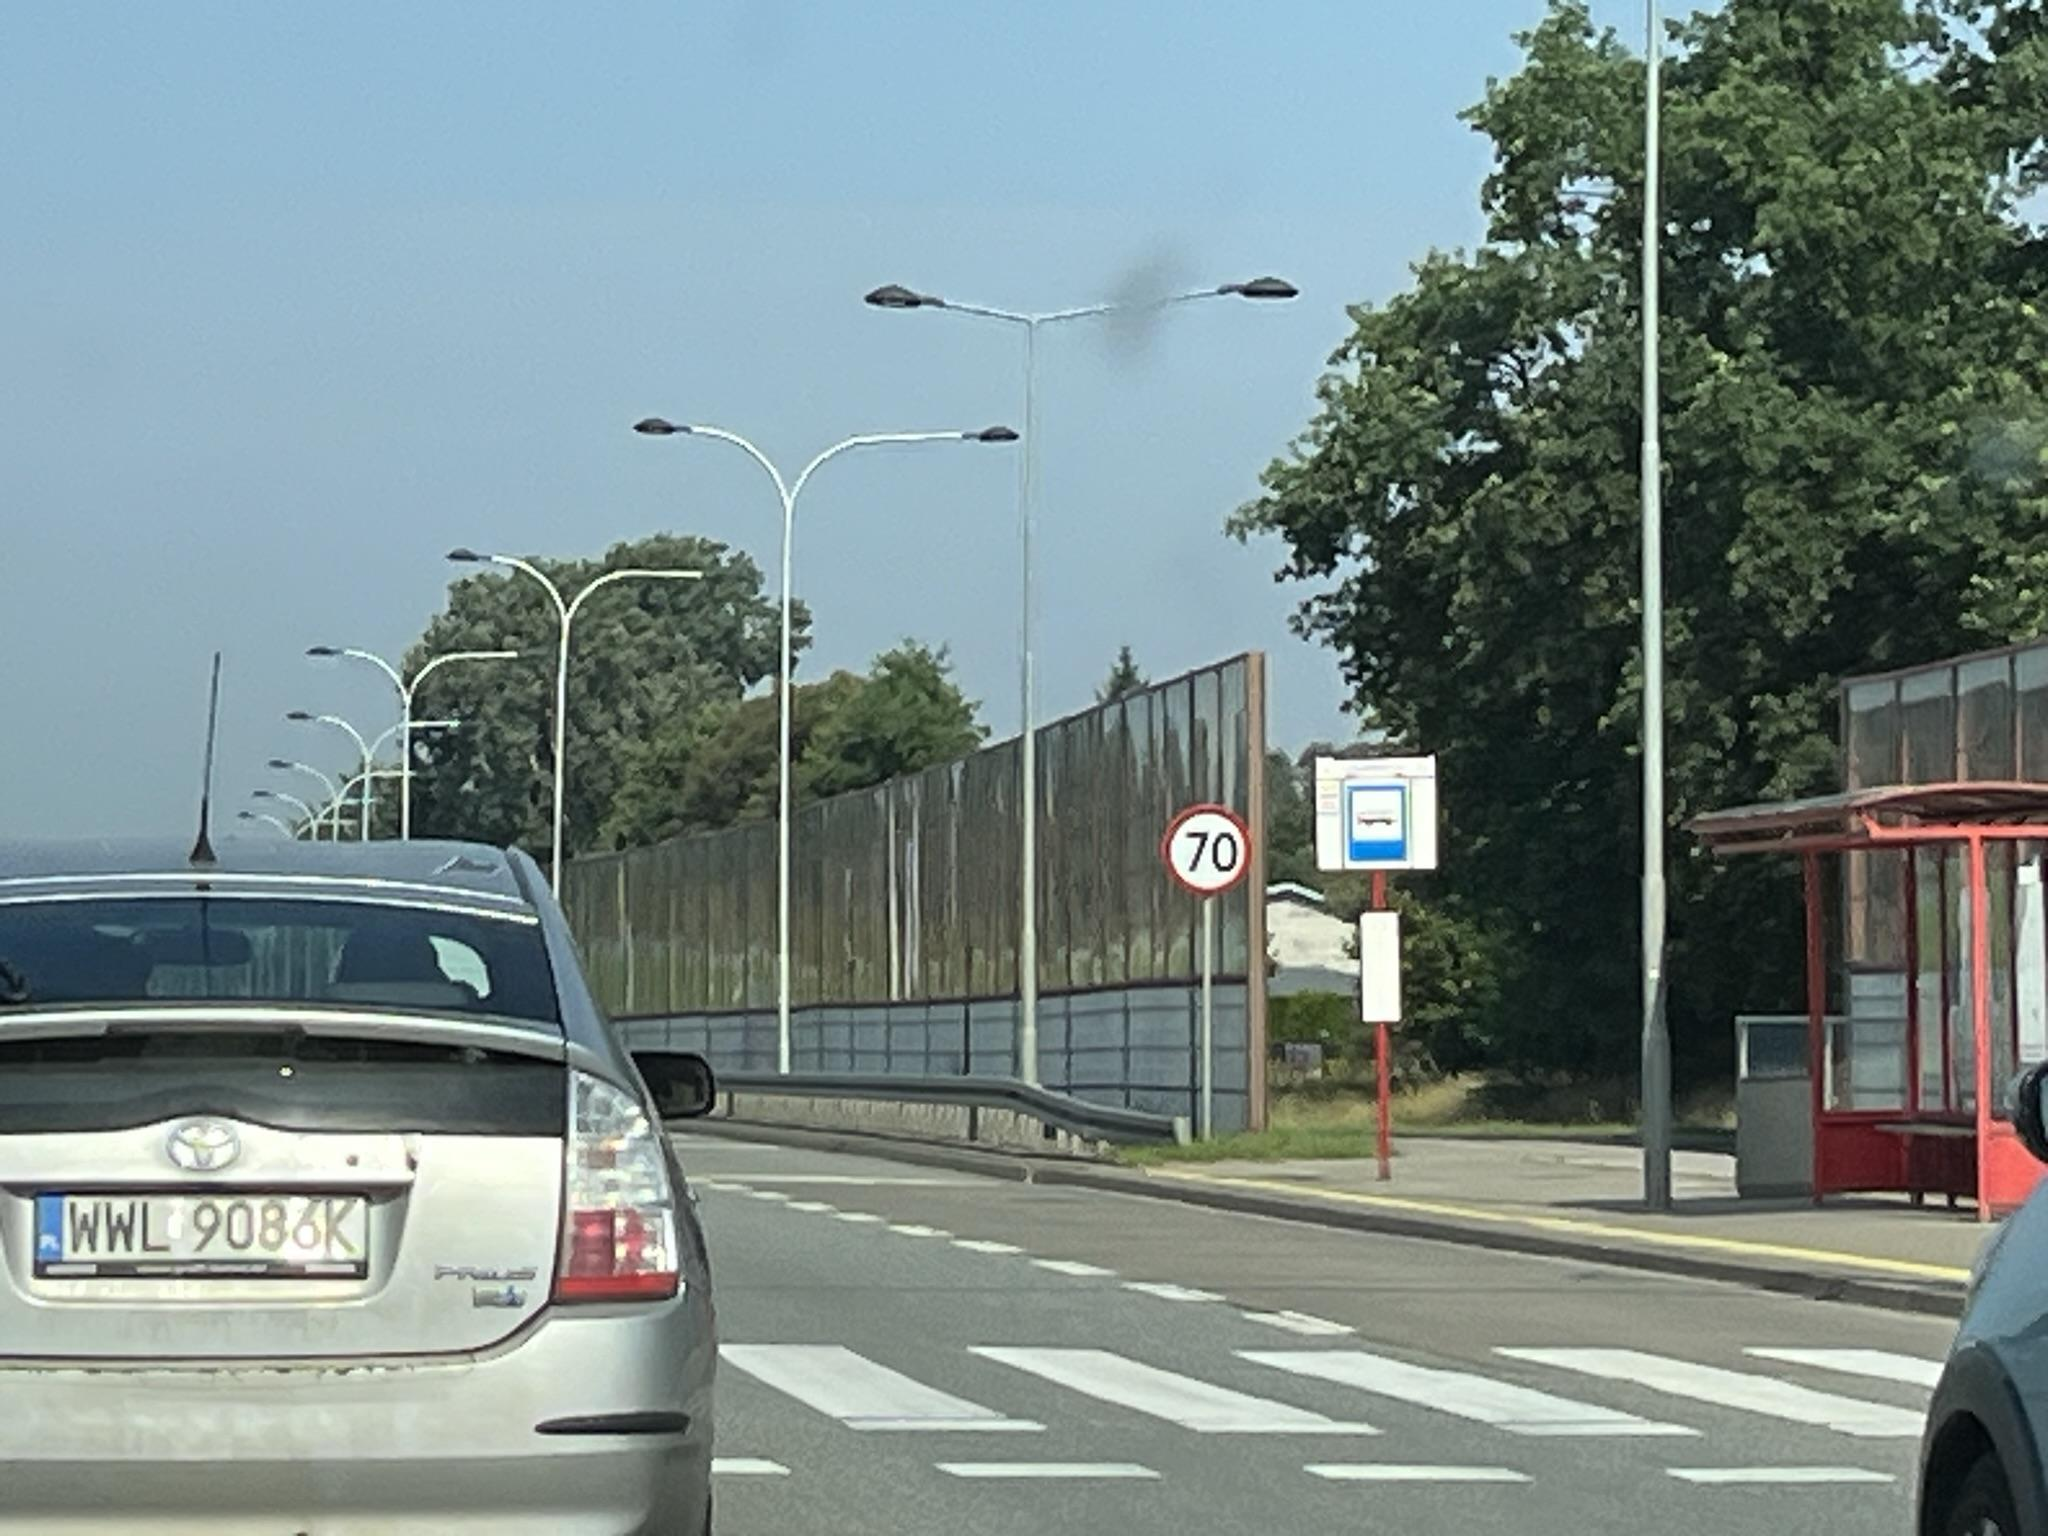information: (1347, 784, 1408, 862)
prohibitory: (1159, 803, 1256, 899)
